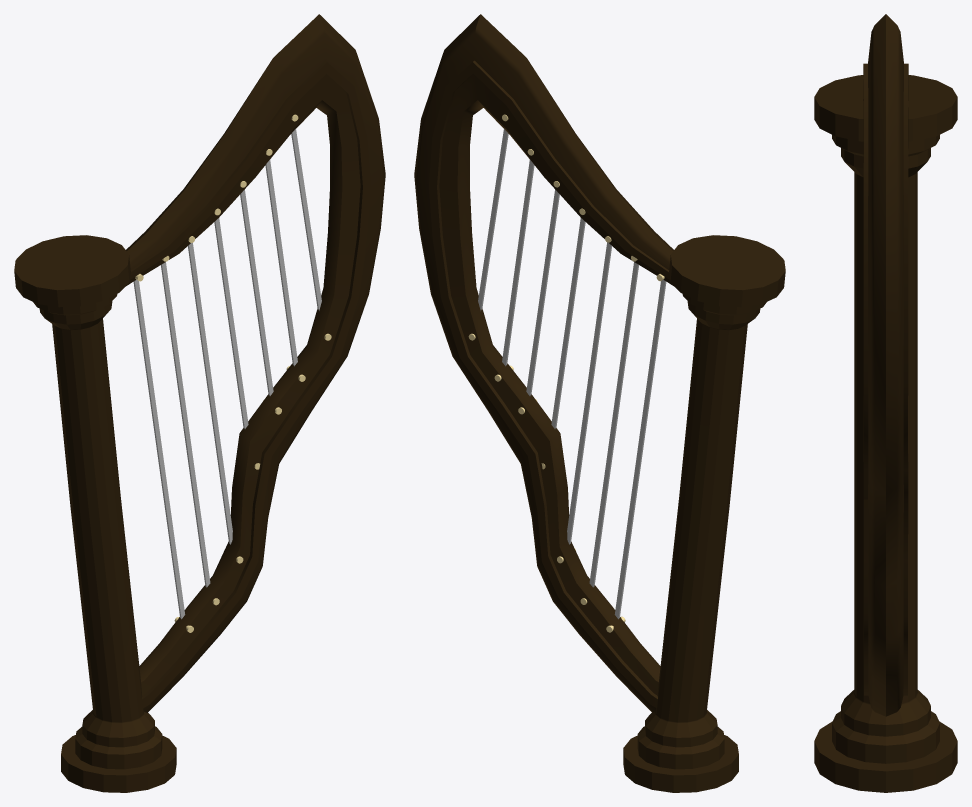
Rendered from harp.fbx.
The picture shows the model from 3 angles, left to right: view 1: azimuth 30°, elevation 25°; view 2: azimuth 150°, elevation 25°; view 3: azimuth 270°, elevation 25°; orthographic projection. The views are drawn at different scales.
Parts seen in each view (by area): view 1: pCylinder11; view 2: pCylinder11; view 3: pCylinder11.
Boxes of the visible parts, x1,y1,x2,y2 form: pCylinder11: [14, 14, 385, 792]; pCylinder11: [414, 14, 785, 792]; pCylinder11: [814, 14, 957, 792].
Bounding box in the file's own units: 4.51 × 8.35 × 1.25.
